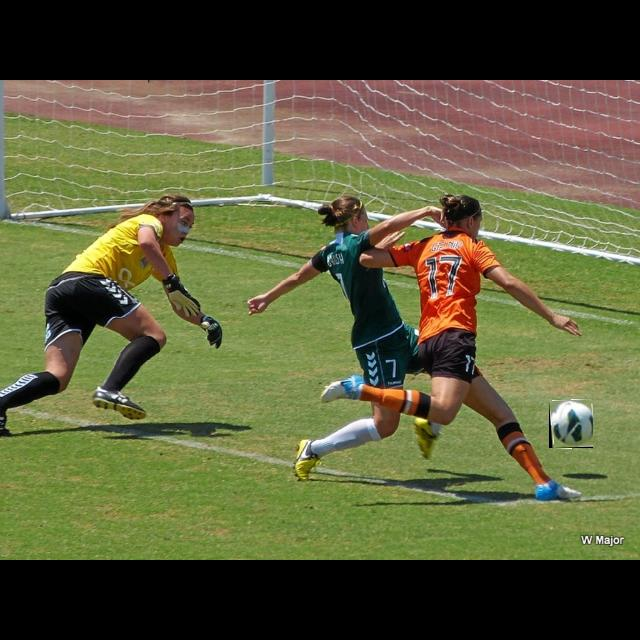Football: (549, 400, 593, 448)
